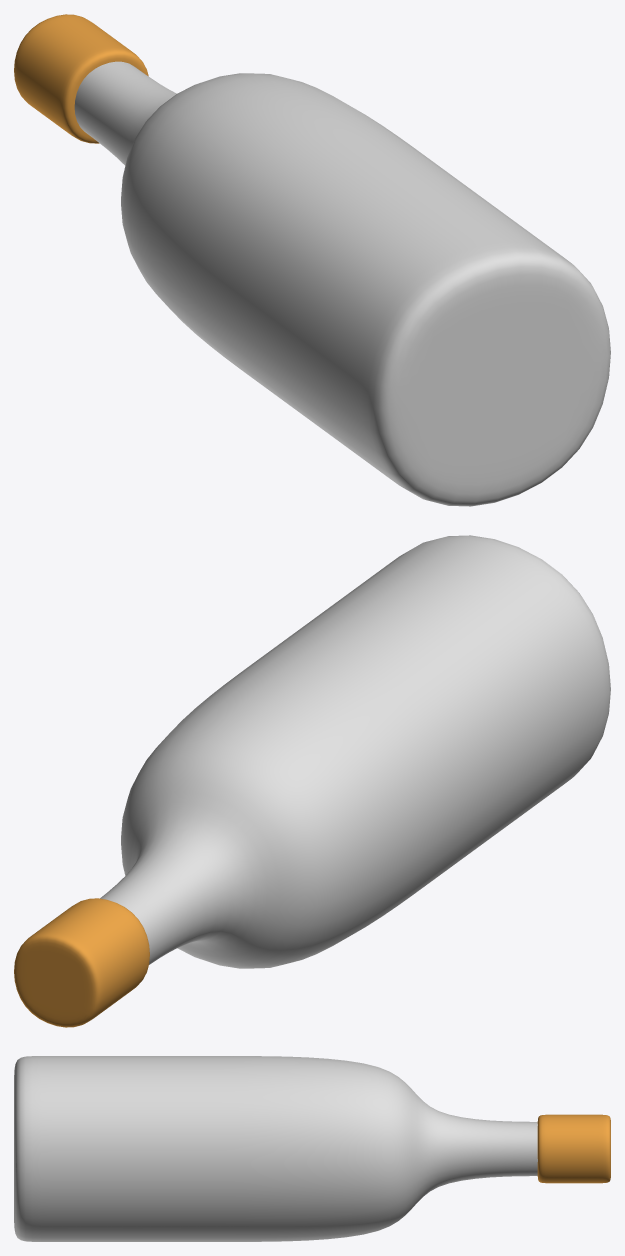
The model's file is chai.glb.
3 renders of one model, top to bottom at view 1: azimuth 30°, elevation 25°; view 2: azimuth 150°, elevation 25°; view 3: azimuth 270°, elevation 25°, orthographic. The views are drawn at different scales.
Visible parts, largest first — view 1: Khối Lập Phương; view 2: Khối Lập Phương; view 3: Khối Lập Phương.
Boxes of the visible parts, box(x1,y1,x2,y2) form: Khối Lập Phương: box(14, 14, 610, 506); Khối Lập Phương: box(14, 535, 610, 1027); Khối Lập Phương: box(14, 1056, 610, 1241).
Size of the model in its own units: 1.83 by 1.83 by 5.96.
